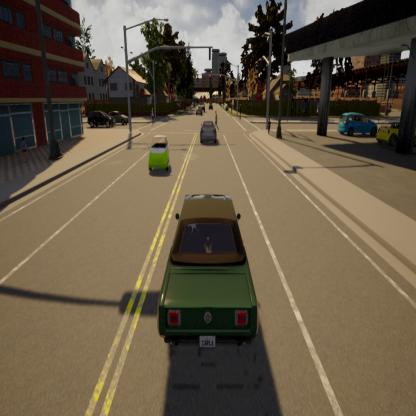Cars: (160, 192, 259, 354), (337, 108, 378, 141), (148, 134, 171, 174), (88, 108, 114, 127), (199, 120, 217, 142), (108, 110, 129, 127)
Pedestrian: (21, 133, 28, 161), (214, 109, 220, 132), (149, 103, 155, 124)
